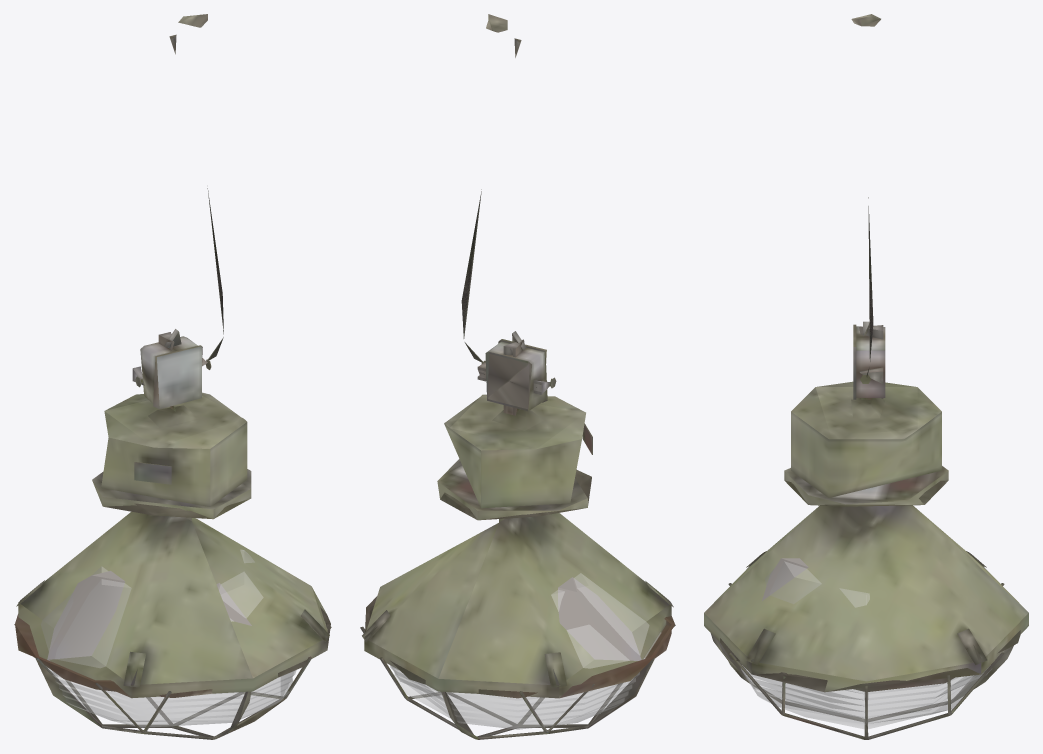
Rendered from lampHanging_lo.glb.
The picture shows the model from 3 angles, left to right: view 1: azimuth 30°, elevation 25°; view 2: azimuth 150°, elevation 25°; view 3: azimuth 270°, elevation 25°; orthographic projection. The views are drawn at different scales.
Visible parts, largest first — view 1: hanging_industrial_lamp; view 2: hanging_industrial_lamp; view 3: hanging_industrial_lamp.
Boxes of the visible parts, x1,y1,x2,y2 form: hanging_industrial_lamp: [14, 14, 331, 739]; hanging_industrial_lamp: [360, 14, 675, 739]; hanging_industrial_lamp: [704, 14, 1028, 739].
Size of the model in its own units: 0.5462 by 1.34 by 0.5497.
Materials: 2 (1 with a texture image).
